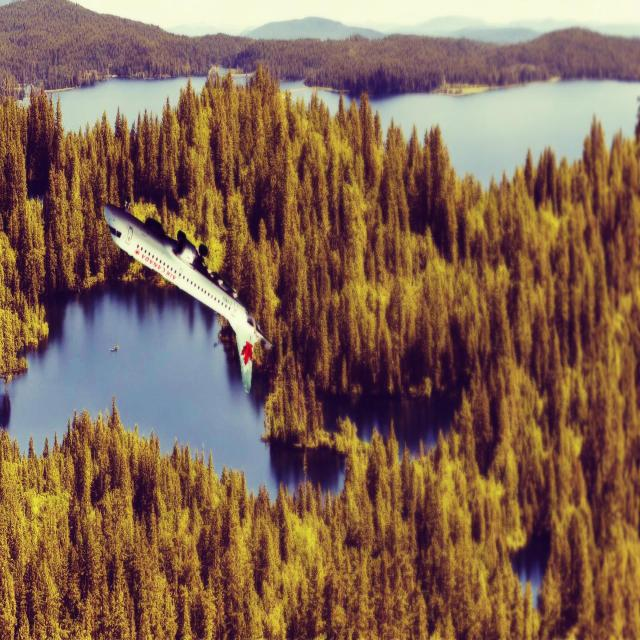airplane: (102, 199, 274, 394)
